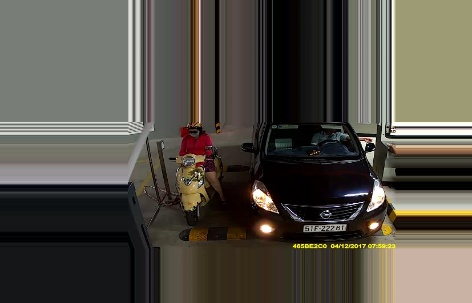plate: (302, 221, 349, 234)
